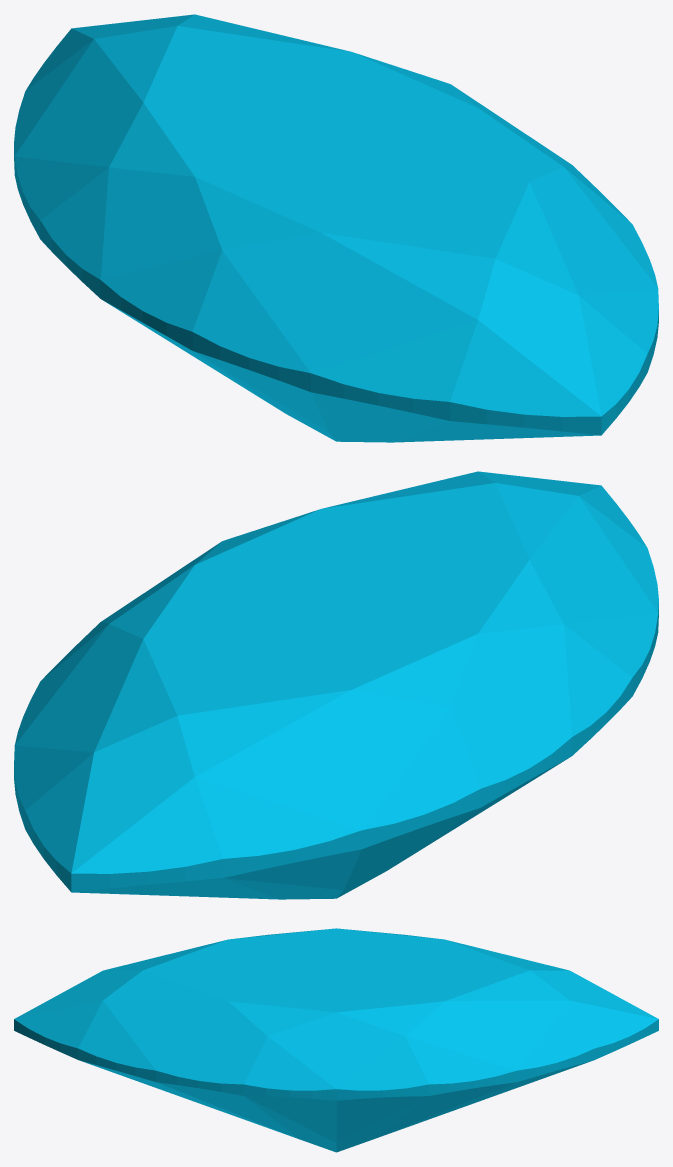
The model's file is Head_No Halo_Marquise_3.0ct_Diamond.glb.
3 renders of one model, top to bottom at view 1: azimuth 30°, elevation 25°; view 2: azimuth 150°, elevation 25°; view 3: azimuth 270°, elevation 25°, orthographic. The views are drawn at different scales.
Bounding box in the file's own units: 0.00752 × 0.00456 × 0.0146.
